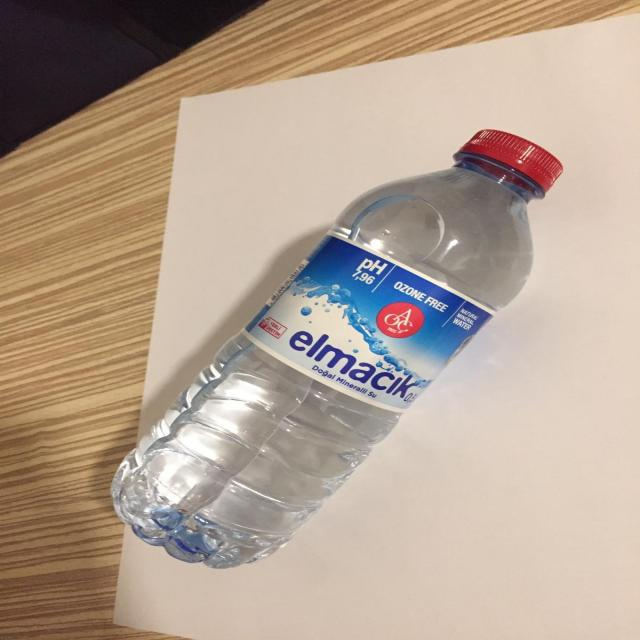bottle: (97, 147, 590, 560)
